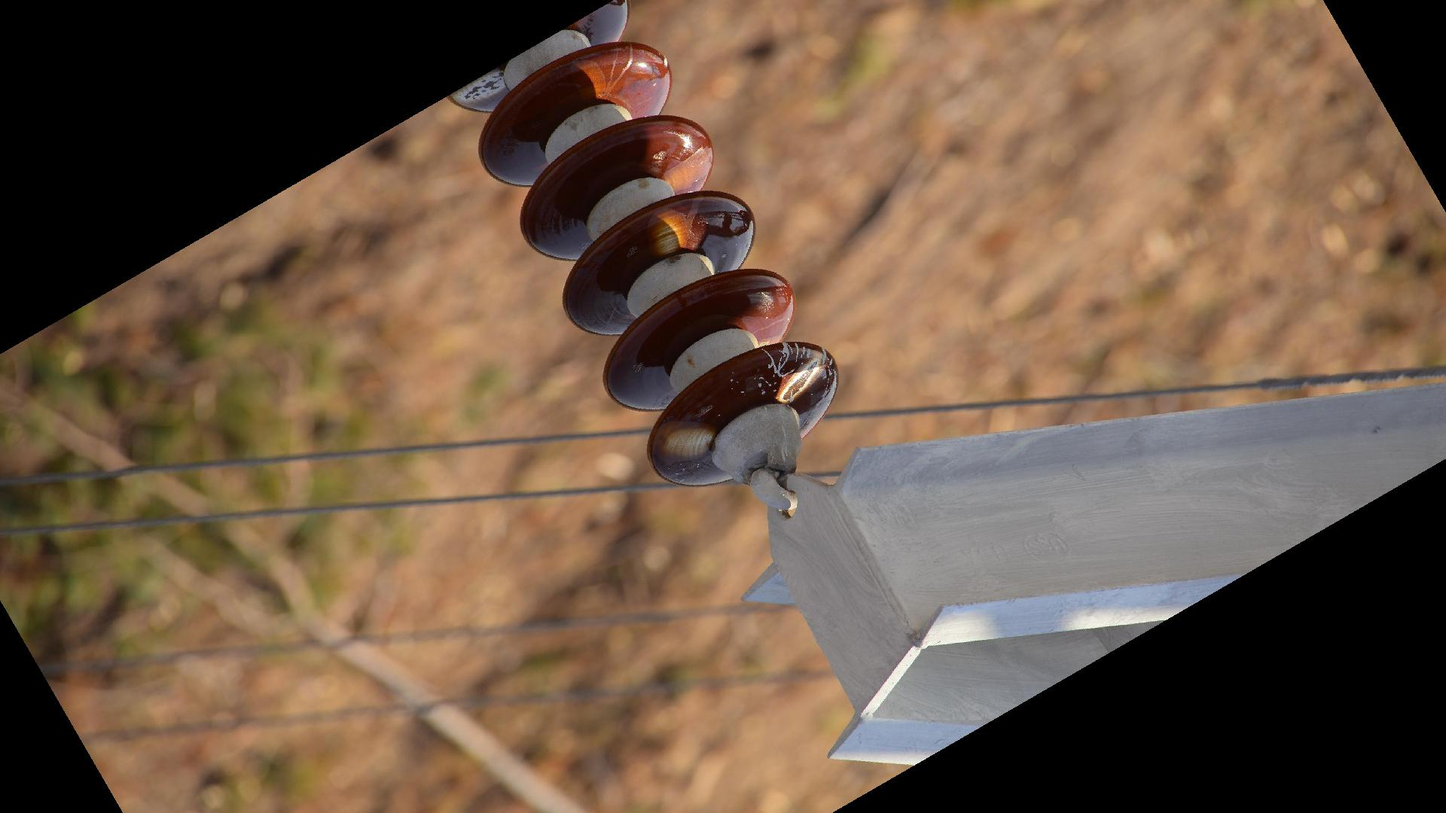insulator: (441, 1, 847, 495)
insulator_flashover: (644, 206, 692, 260), (662, 145, 715, 193), (447, 68, 506, 109), (776, 354, 824, 404), (660, 425, 717, 461)
